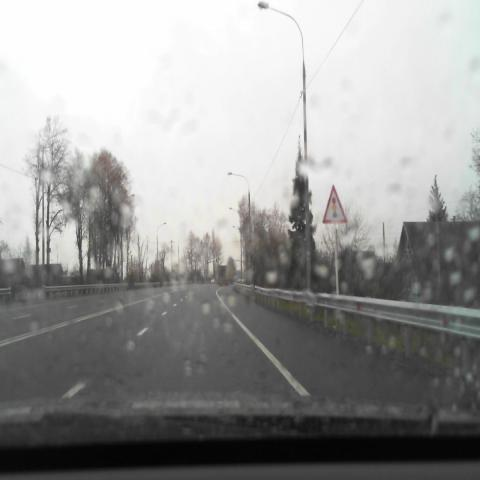1_8: (322, 185, 348, 223)
